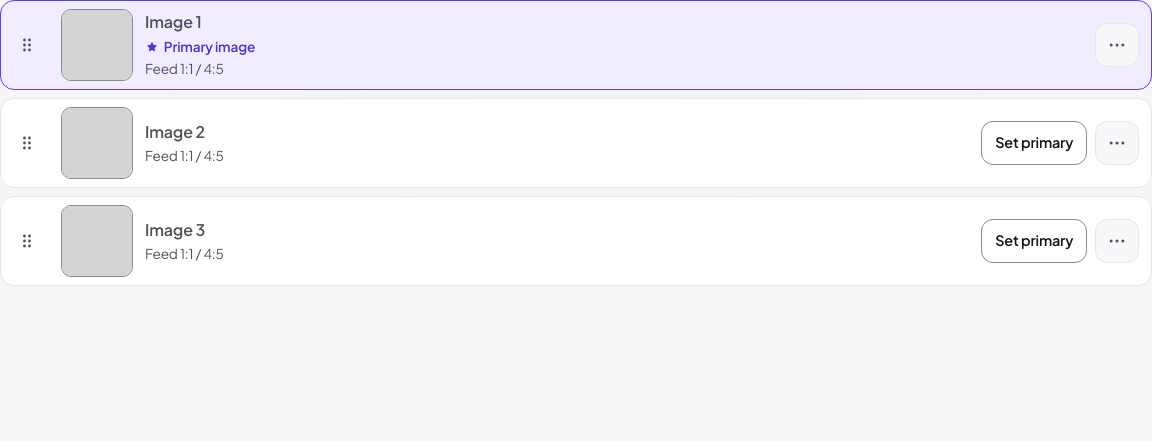
Test: PhotoList › moves via the overflow menu, disabling Move up at the top and Move down at the bottom
Click the button named "More actions for Image 1".
click(1117, 45)  # box [1095, 23, 1139, 67]
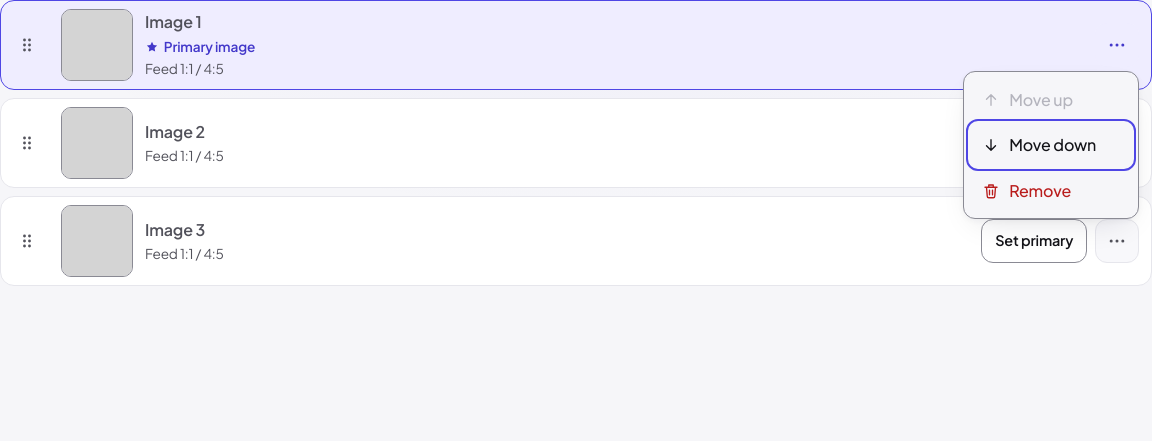
Check: the menu item "Move up" is disabled, box [970, 78, 1132, 122]
Click the menu item "Move down".
click(1051, 145)  # box [970, 123, 1132, 167]
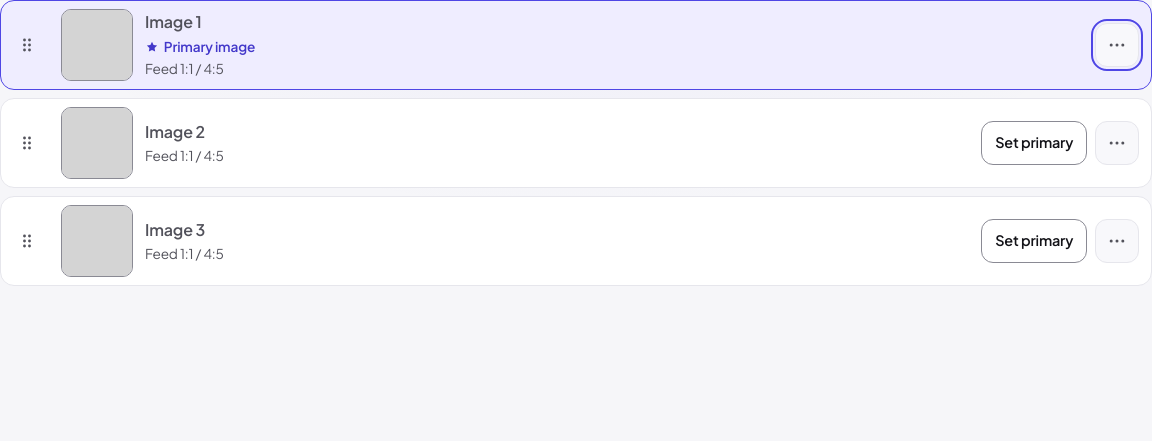
Click the button named "More actions for Image 3".
click(1117, 241)  # box [1095, 219, 1139, 263]
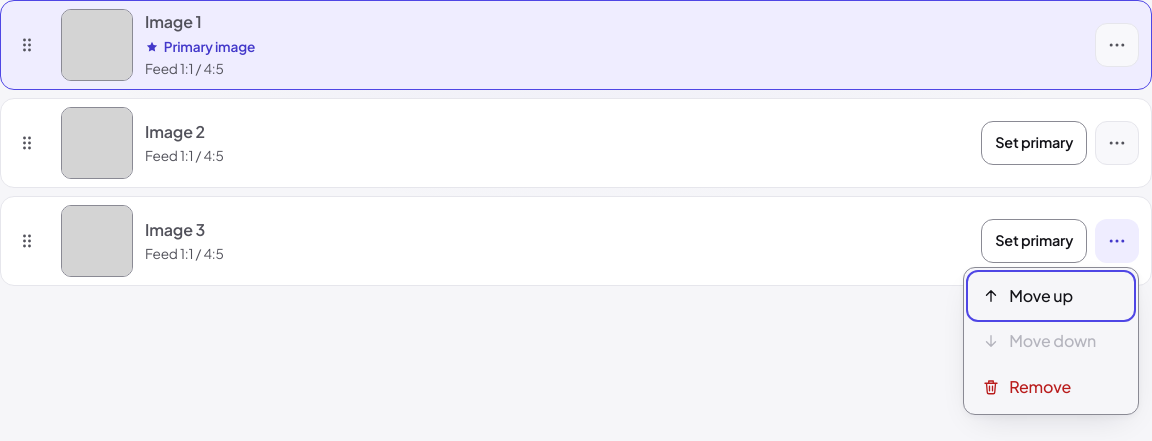
Check: the menu item "Move down" is disabled, box [970, 319, 1132, 363]
